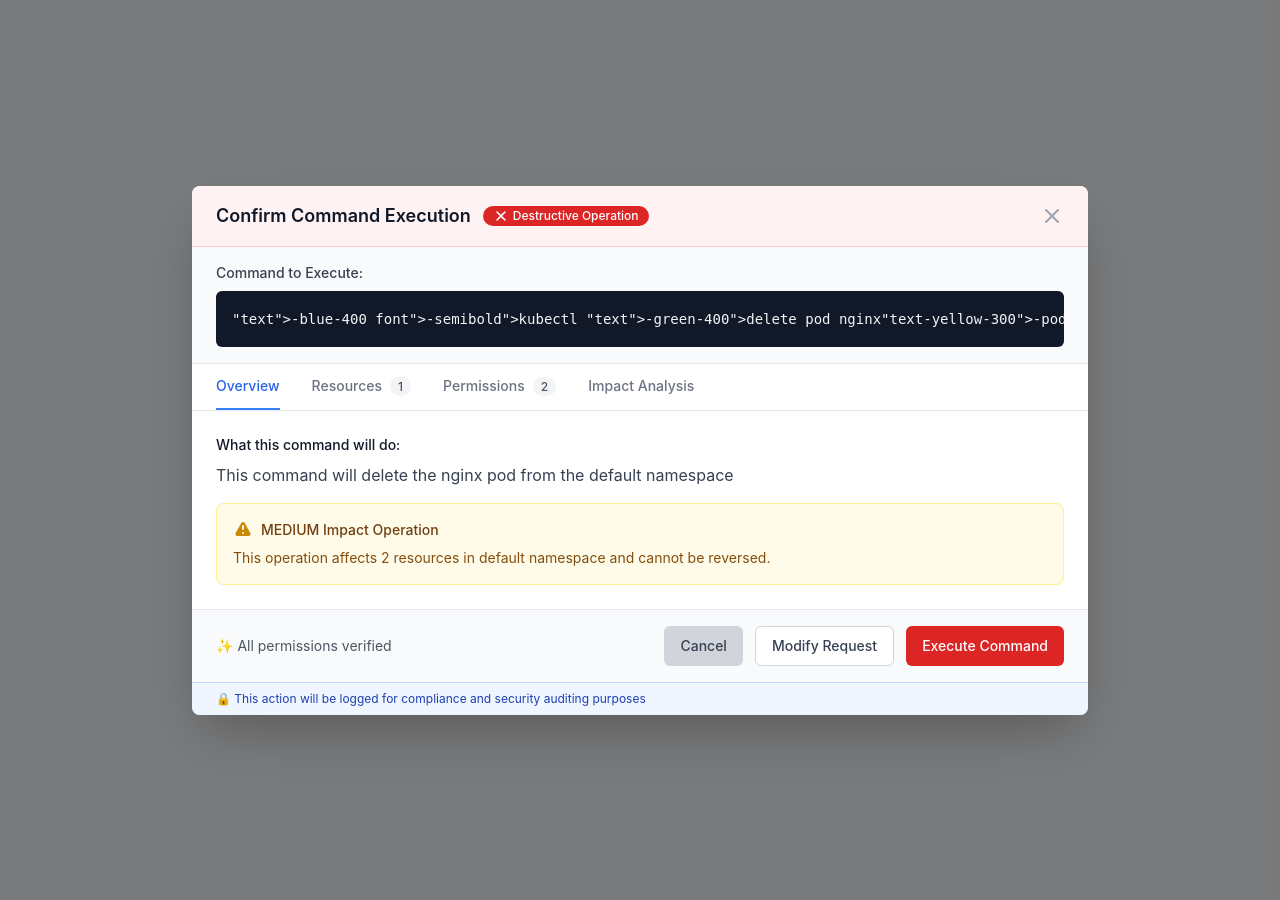
EnhancedCommandConfirmationDialog › Edge Cases › handles resources without namespace
Click the button "Resources1": (361, 386) [312, 364, 411, 410]
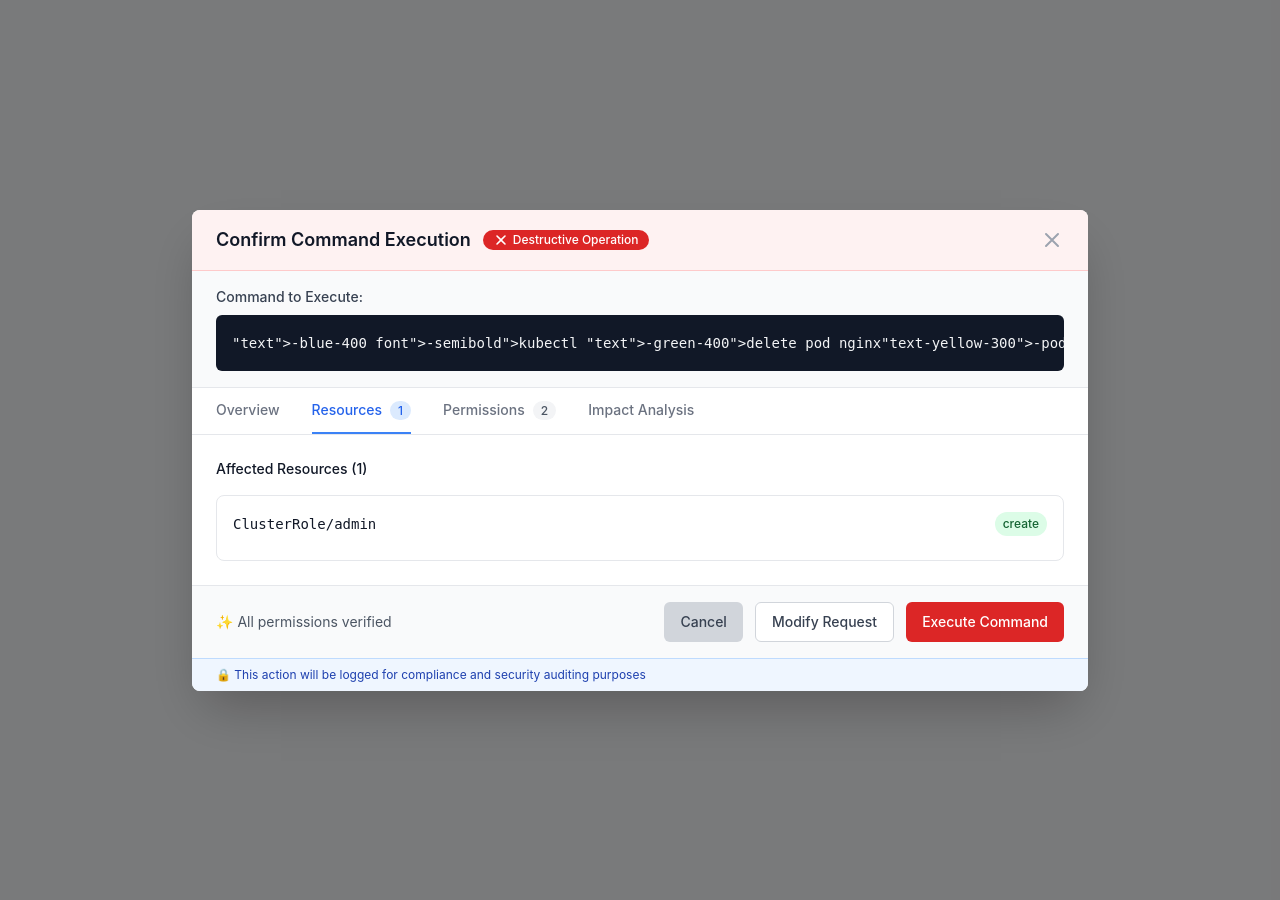
expect the text "ClusterRole/admin" is shown: met, box [233, 514, 376, 534]
